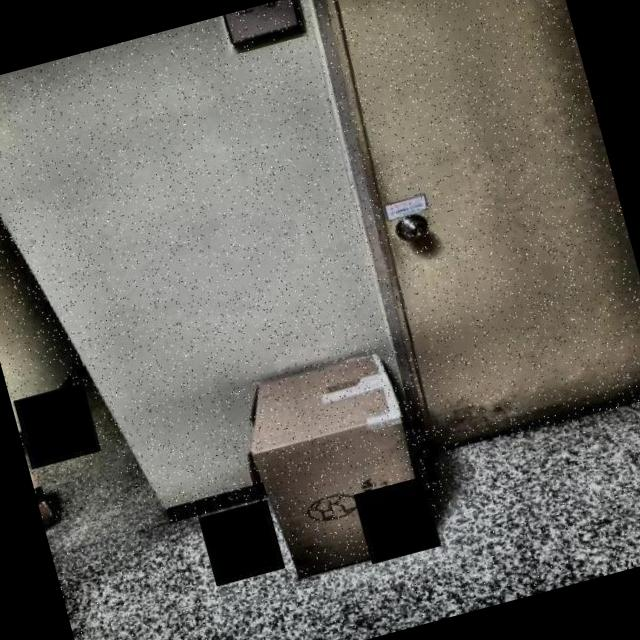box: (213, 325, 454, 594)
